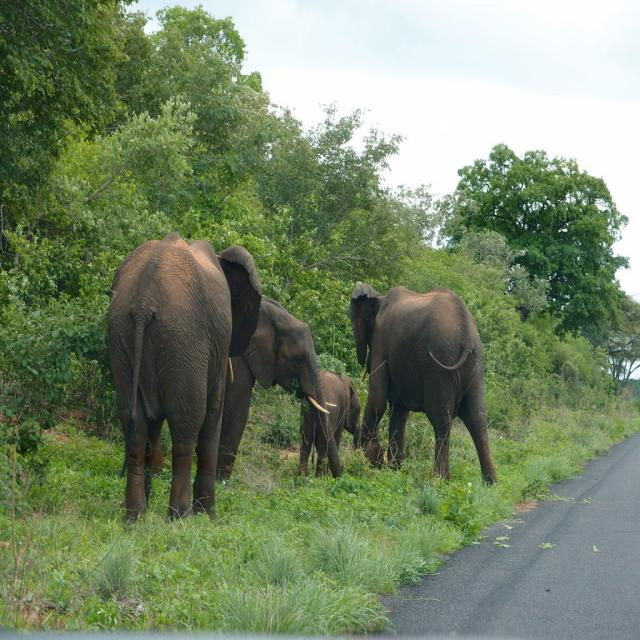elephant: (101, 237, 262, 523), (352, 282, 498, 488), (216, 300, 342, 486), (298, 366, 367, 486)
